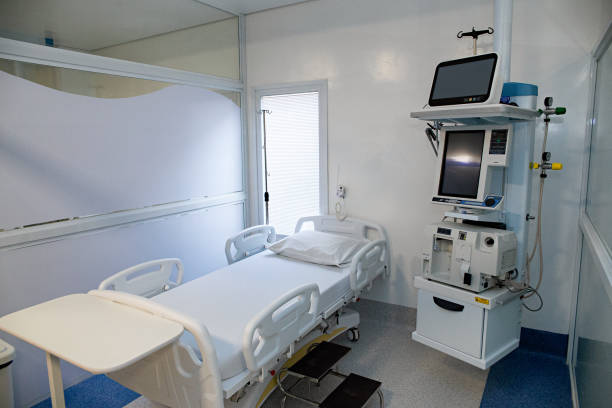bedrail: (243, 283, 321, 372), (98, 258, 184, 301), (349, 239, 394, 294), (225, 225, 276, 268)
bedside_monitor: (432, 120, 511, 204), (430, 53, 502, 107)
foot_board: (78, 282, 227, 408)
hospital_bed: (86, 214, 390, 407)
iv_pole: (251, 105, 277, 225), (453, 23, 493, 57)
overbed_table: (1, 292, 184, 408)
